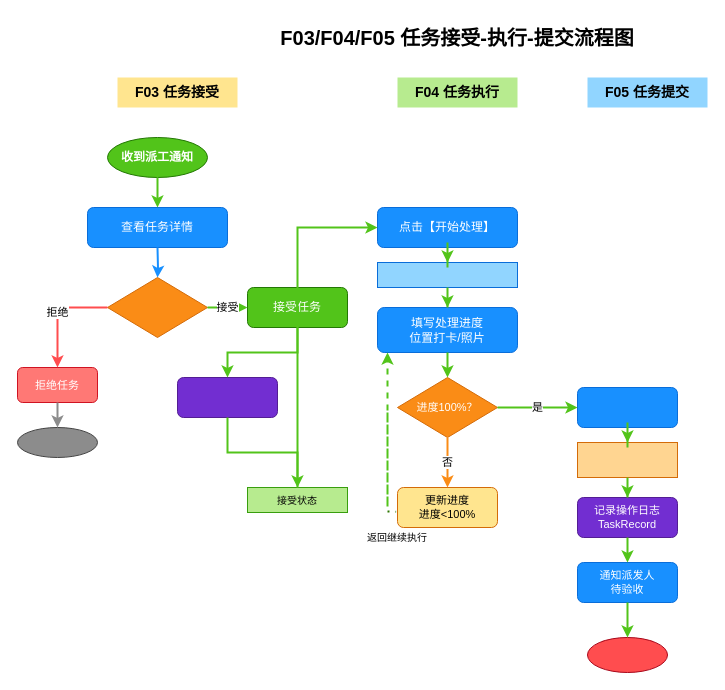
Image size: 725x690. Some labels were removed from this diagram. Each missing label, with the centre of its shape:
"accepted → in_progress" goes at point 447,275.
"创建考勤记录 Attendance" goes at point 227,397.
"提交成功" goes at point 627,654.
"点击【提交验收】" goes at point 627,407.
"确认接受？" goes at point 157,307.
"等待接受" goes at point 627,460.
"重新派发" goes at point 57,442.
